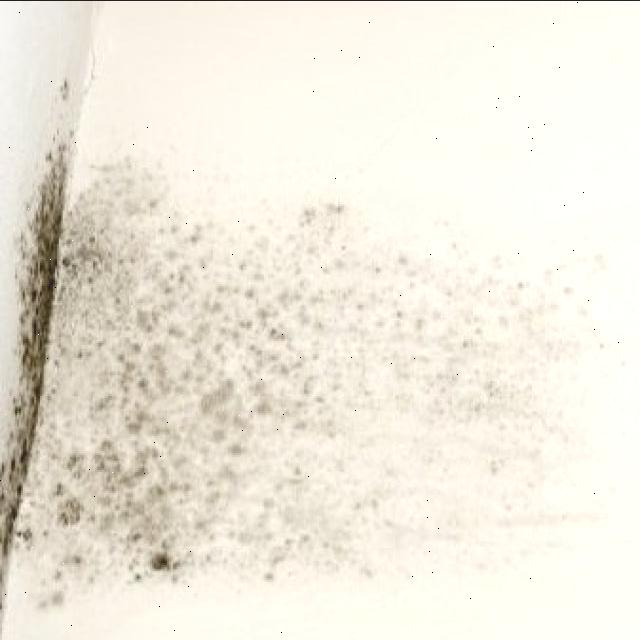dampness: (16, 0, 279, 571)
